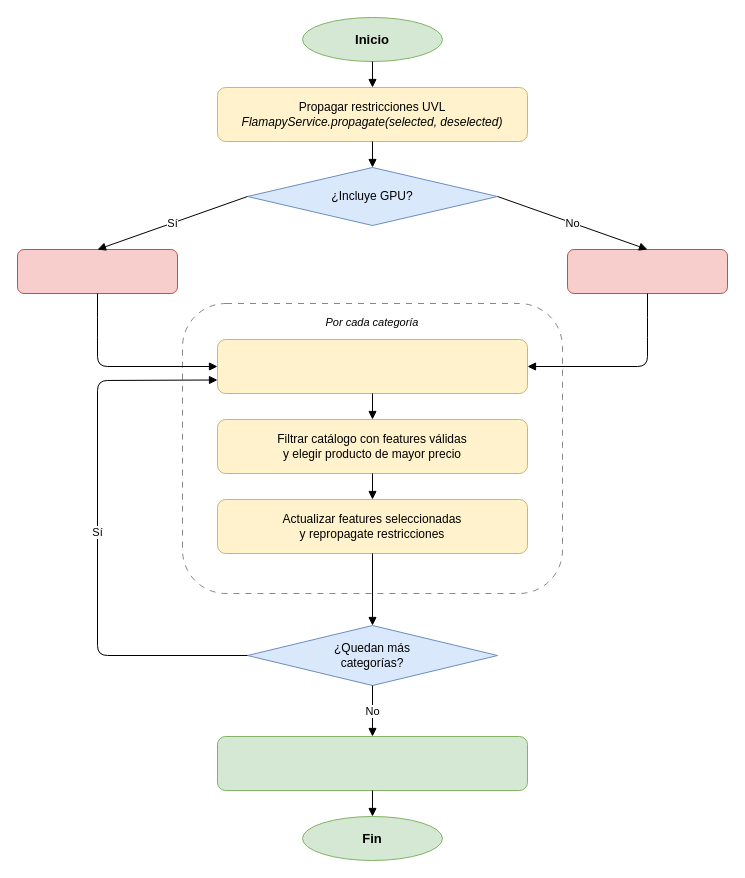
Image size: 745x878. Some labels were removed from this diagram. The shapes that lost their labels are listed below. From the top down, each one's centre as x and y in pixels, then its label:
point 97,271: REPARTO_CON_GPU
point 647,271: REPARTO_SIN_GPU
point 372,366: Calcular presupuesto asignado a la categoría presupuesto × porcentaje_categoría
point 372,763: Construir y retornar ConfiguracionResult
